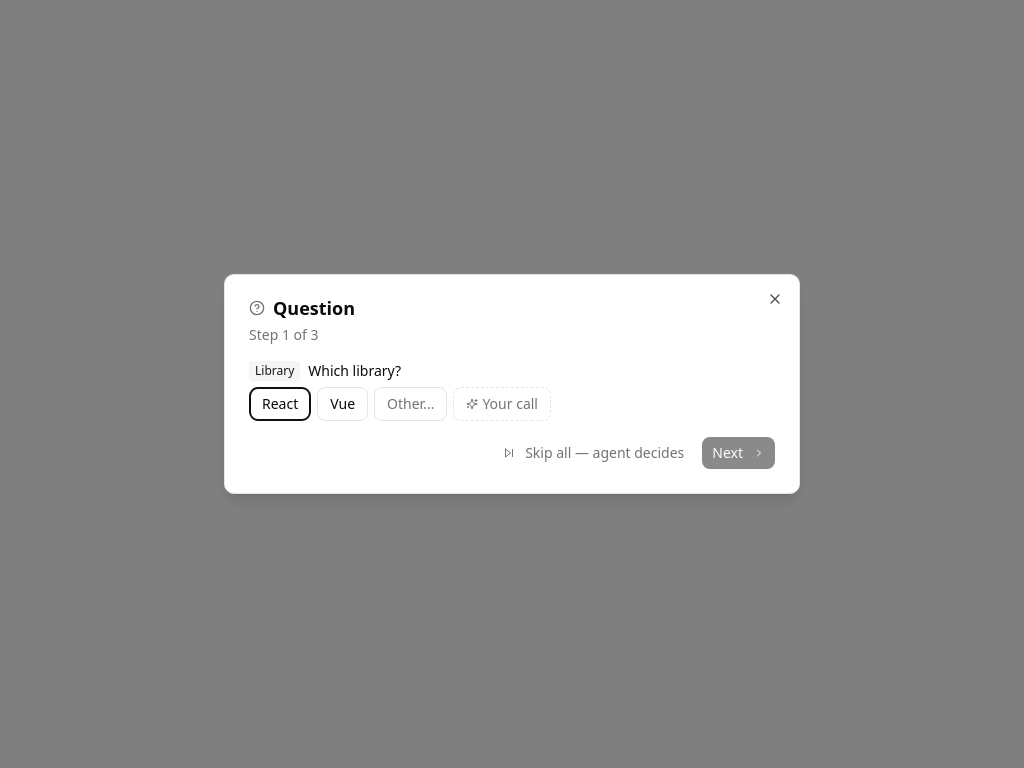
Test: AskUserDialog › agent choice › "Skip all" in wizard mode jumps to review
The width and height of the screenshot is (1024, 768).
Click the button "Skip all — agent decides".
click(594, 453)  # box [493,437,694,469]
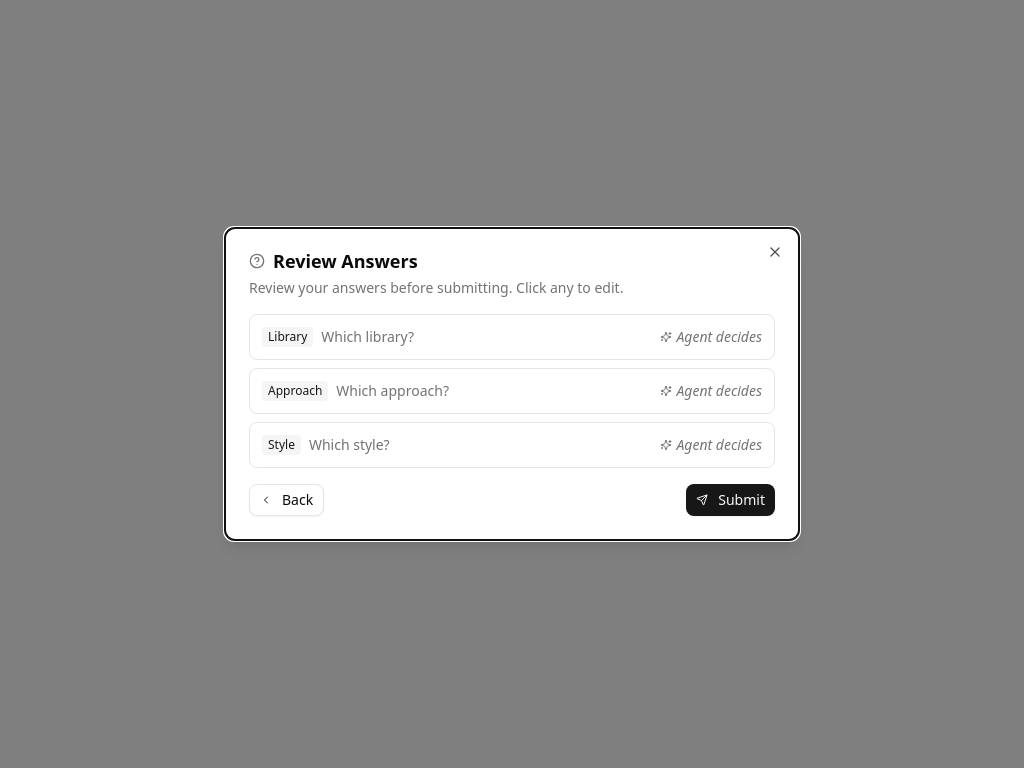
Expected: the heading "Review Answers" is shown, [249,249,418,273]
